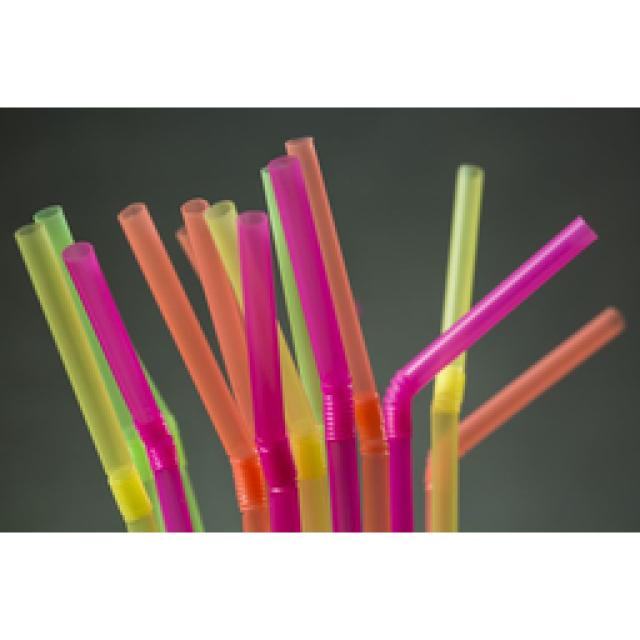plastic: (120, 138, 622, 530), (15, 208, 200, 530)
